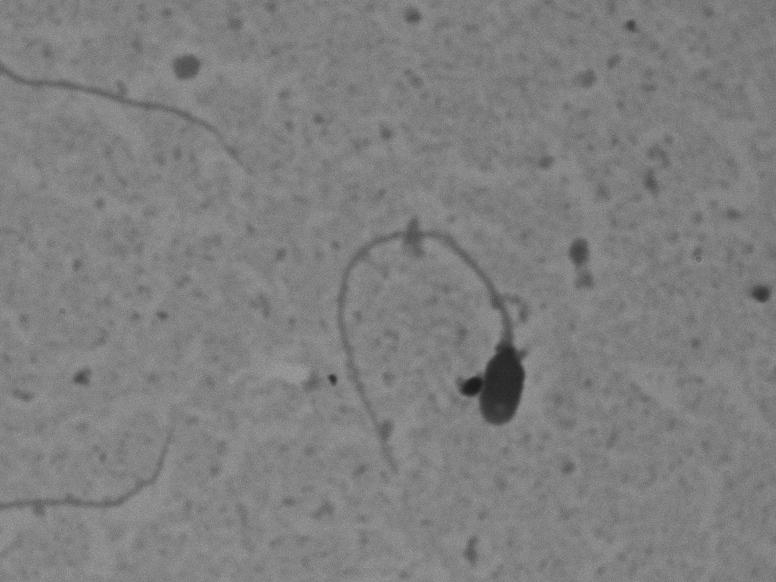Abnormal: (308, 214, 558, 478)
